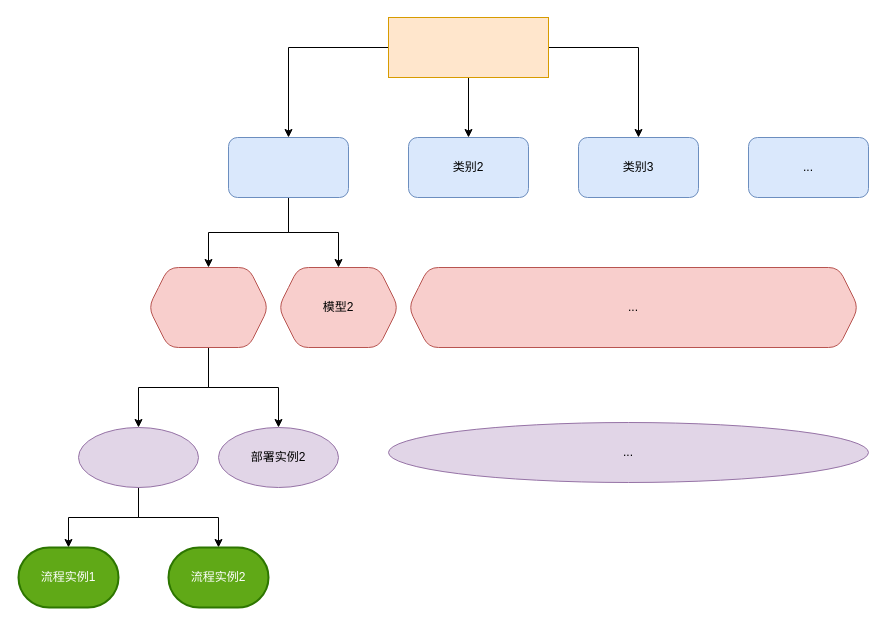
This 886x626 diagram has some shape labels left out. The shapes that lost their labels are listed below. From the top down, each one's box as (x1, y1, x2, y2) in pixels, then its label:
(388, 16, 548, 78): 租户
(228, 136, 348, 198): 类别1
(148, 266, 268, 348): 模型1
(78, 426, 198, 488): 部署实例1
